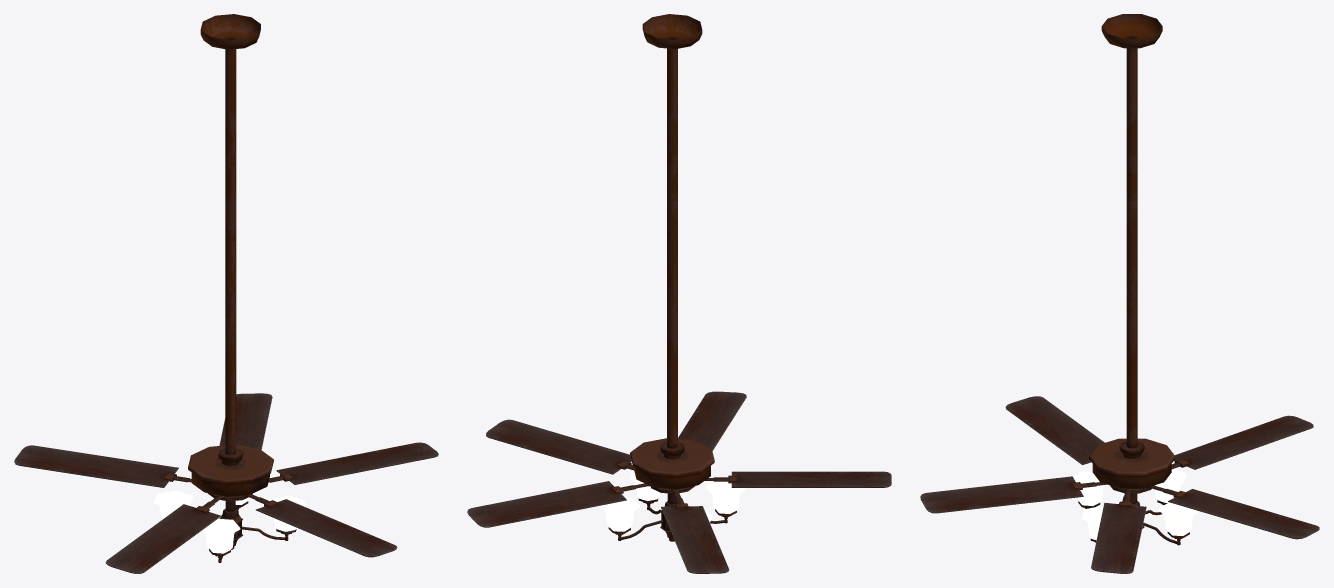
File: light_ceiling_fan.fbx
3 views of the same model, side by side, from view 1: azimuth 30°, elevation 25°; view 2: azimuth 150°, elevation 25°; view 3: azimuth 270°, elevation 25° (orthographic).
Parts seen in each view (by area): view 1: Cylinder.022; view 2: Cylinder.022; view 3: Cylinder.022.
Part boxes in pixels (<box>): Cylinder.022: <box>14,14,438,573</box>; Cylinder.022: <box>467,14,891,573</box>; Cylinder.022: <box>920,14,1319,573</box>.
Size of the model in its own units: 243 by 332 by 234.
